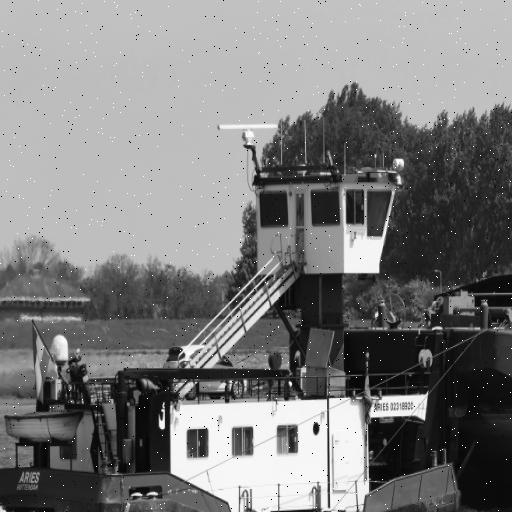tugboat: (1, 117, 473, 512)
